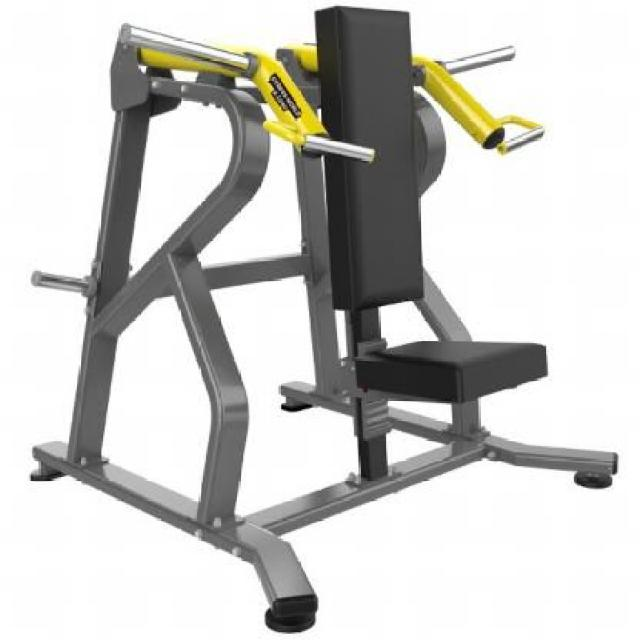shoulder press machine: (11, 4, 640, 638)
